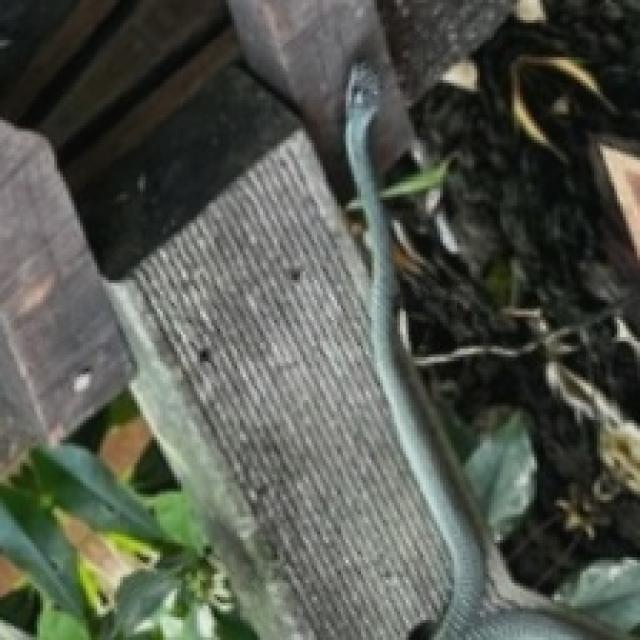paradise tree snake: (346, 63, 586, 637)
